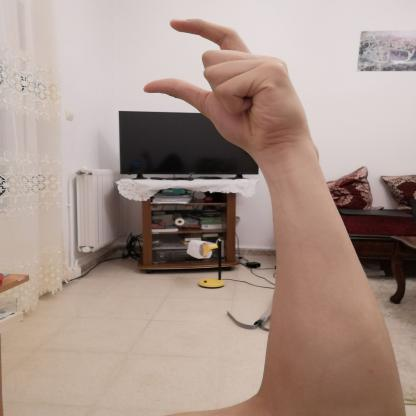DELL: (132, 8, 323, 159)
